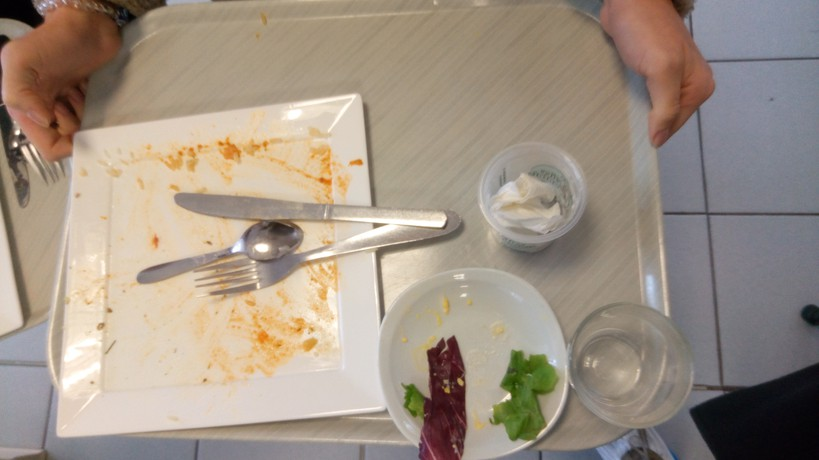cup: (560, 286, 717, 451)
cutlery: (162, 185, 465, 307)
orga: (411, 338, 472, 460), (494, 351, 556, 448)
trash: (470, 140, 587, 251)
